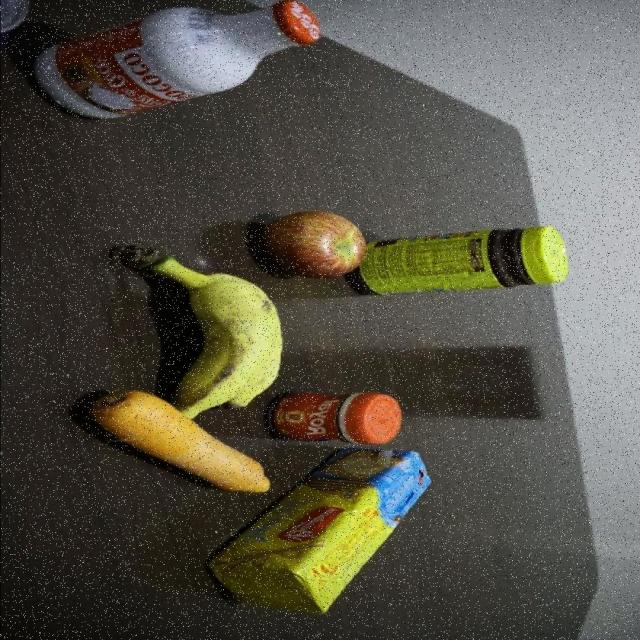Apple: (280, 210, 365, 282)
Banana: (143, 252, 270, 403)
Carrot: (78, 419, 280, 499)
ChocolatePowder: (374, 225, 574, 296)
CoconutMilk: (32, 0, 324, 117)
Cracker: (282, 448, 433, 620)
Yeast: (271, 389, 402, 448)
